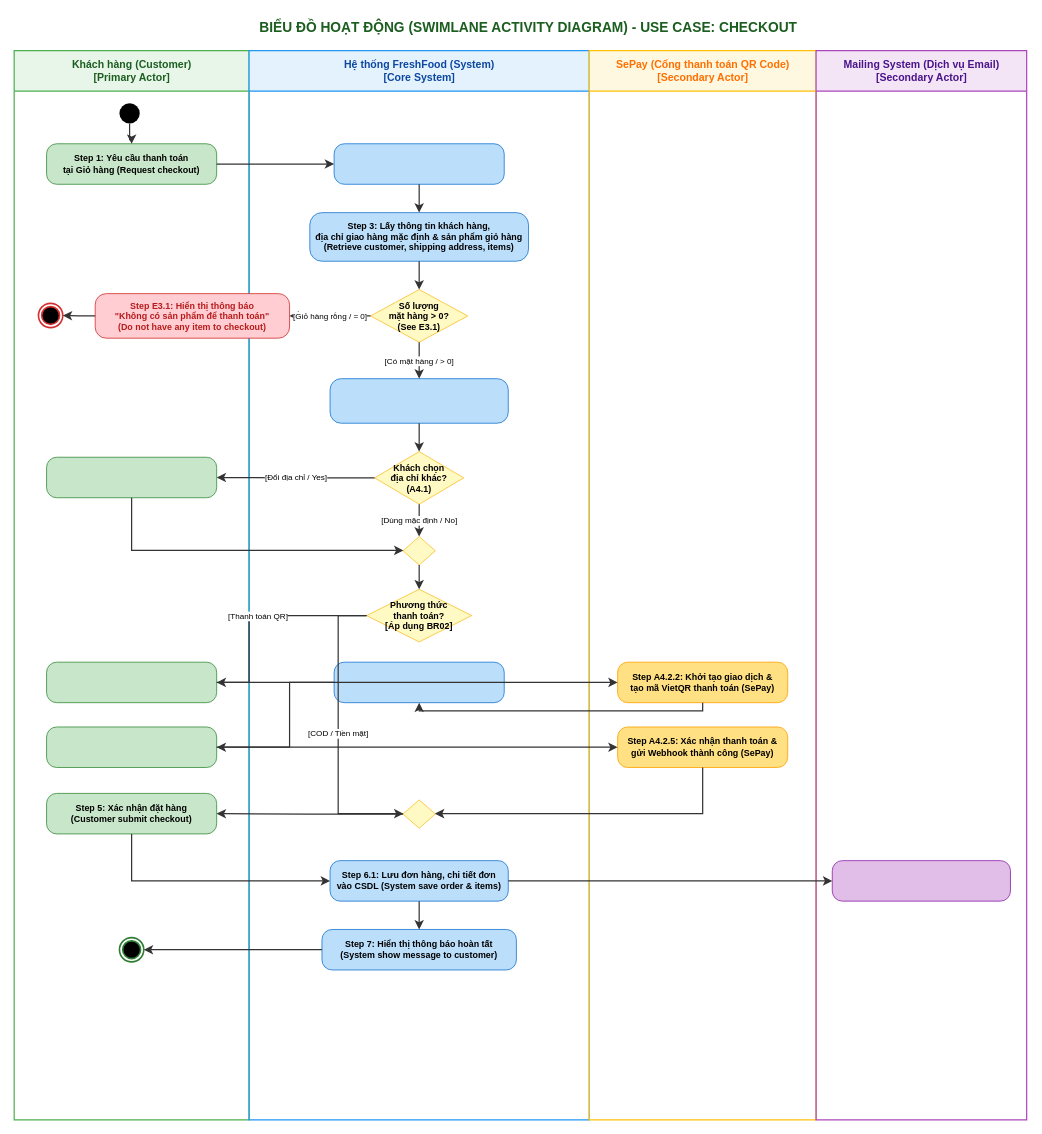
Image size: 1042x1134. Some labels were removed from this diagram. The shapes that lost their labels are listed below. From the top down, each one's centre as x and y in pixels, then its label:
At point 418,163: "Step 2: Hiển thị form thanh toán (Show checkout form)".
At point 418,400: "Step 4: Tính tổng tiền đơn hàng [Áp dụng BR01: Caculate total money]".
At point 131,477: "Step A4.1: Chọn địa chỉ giao hàng khác (Choose other shipping address)".
At point 131,682: "Step A4.2.1: Chọn thanh toán QR Code (Customer chooses QRcode payment)".
At point 418,682: "Step A4.2.3: Hiển thị form mã QR (The system gen QRcode & show form)".
At point 131,746: "Step A4.2.4: Quét mã QR thanh toán (Customer scan QRcode to pay)".
At point 920,880: "Step 6.2: Gửi email xác nhận đơn hàng đến khách hàng (MailingSystem send email)".
